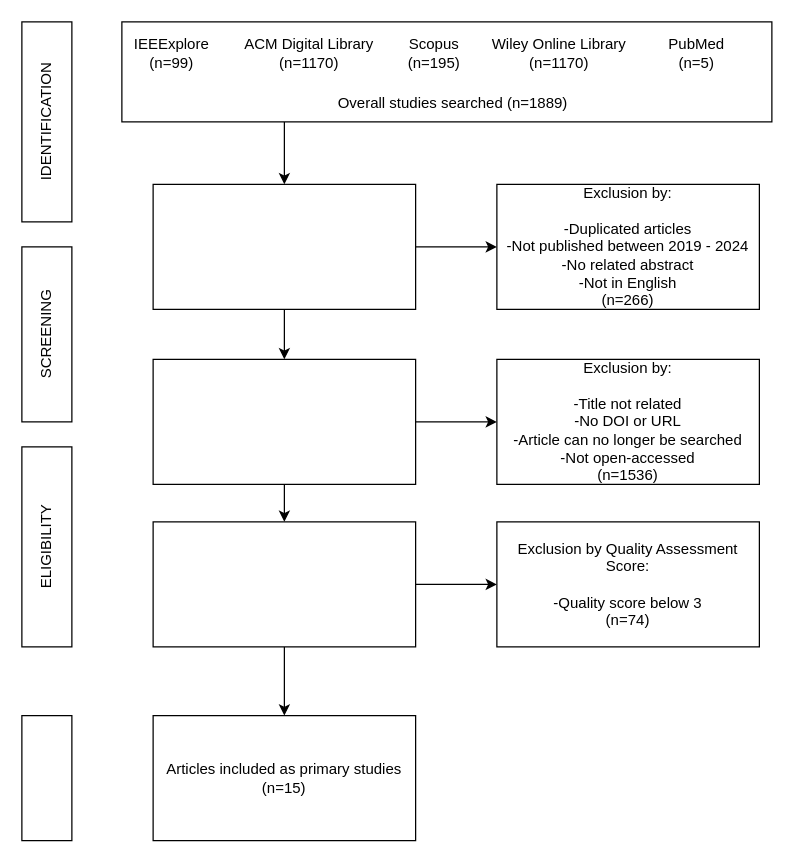
This 794x863 diagram has some shape labels left out. Each missing label, with the centre of its shape:
"Articl es to be assessed for eligibility (n=87)" goes at point 284,421.
"Articl es to be screened (n=1624)" goes at point 284,246.
"Articles assessed for Quality Assessment (n=13)" goes at point 284,584.
"INCLUDE" goes at point 46,777.
